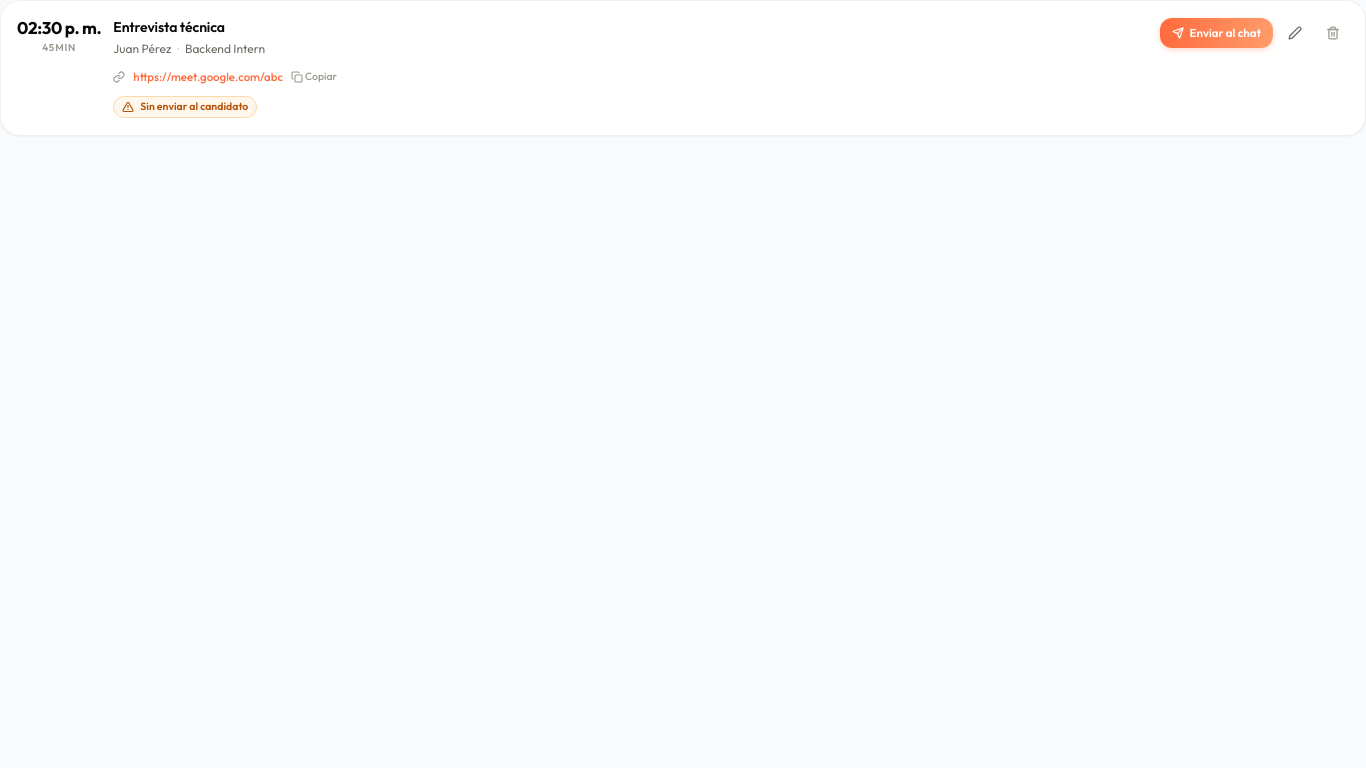
Test: InterviewListItem › acciones secundarias › click en Eliminar abre el modal de confirmación
The image size is (1366, 768).
Click the button titled "Eliminar". click: x=1333, y=33
box: [1317,17,1349,49]
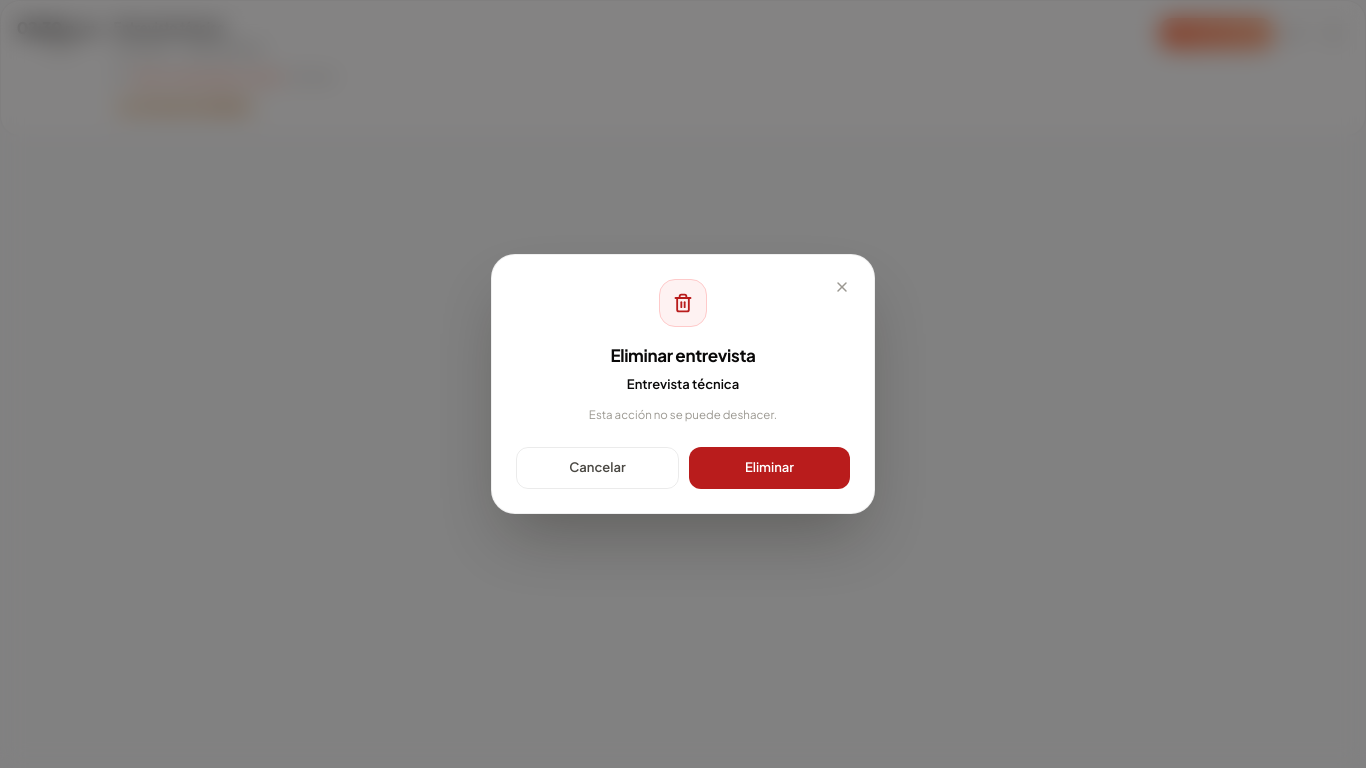
Expected: the heading "Eliminar entrevista" is shown, [610,344,756,366]
